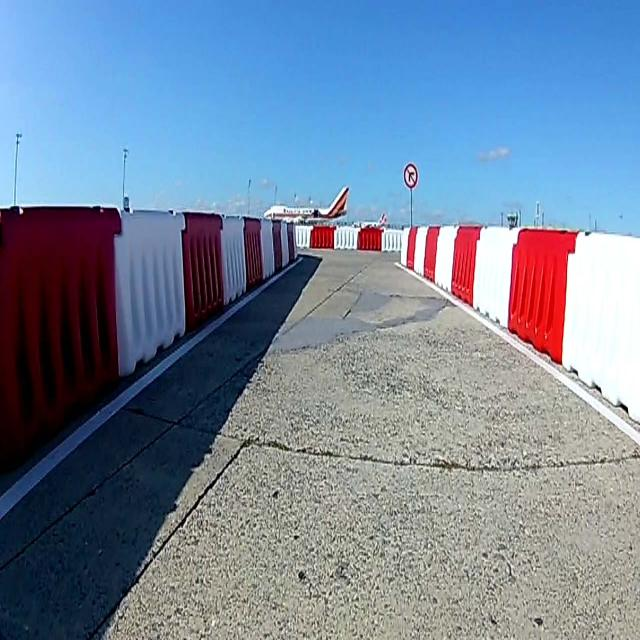sagadonulmez: (404, 165, 418, 188)
